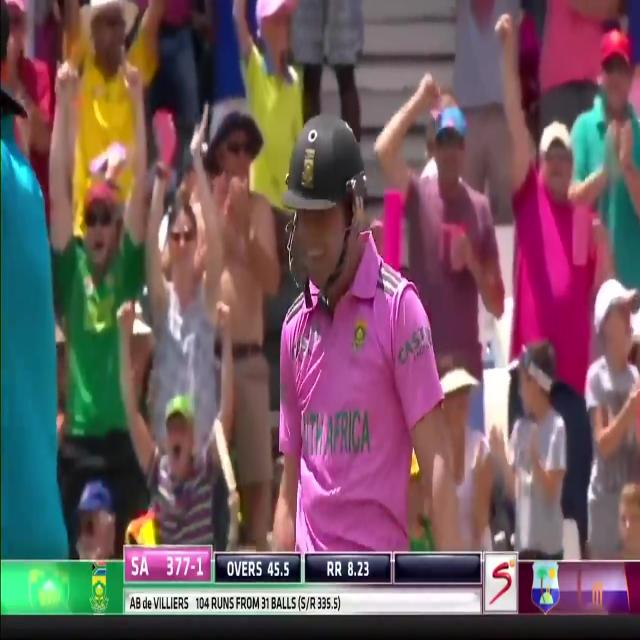Ball: (238, 116, 449, 554)
Umpire: (0, 79, 76, 556)
